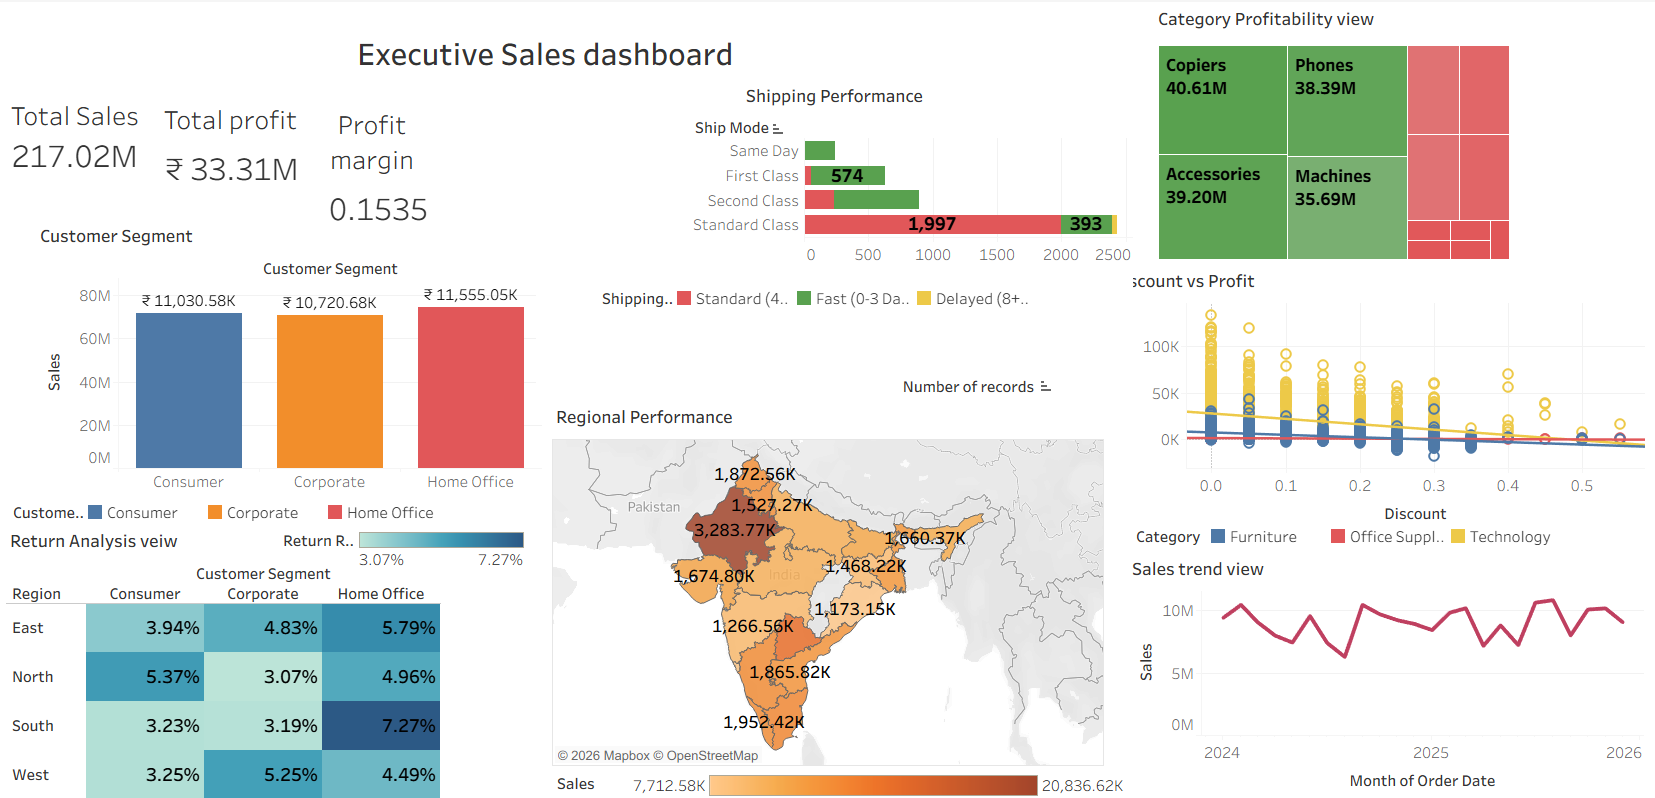

The dashboard page shown, as its layout file describes it:
{"tool":"tableau","page":{"name":"Executive Sales dashboard","canvas":[1000,1000],"units":"permille","ordinal":0},"visuals":[{"type":"worksheet","title":"Category Profitability view","mark":"Automatic","box":[697,0,302.4,327.1]},{"type":"title","box":[4.8,10,990.3,106.1]},{"type":"worksheet","title":"Shipping Performance","mark":"Automatic","rows":["ship_mode"],"cols":["Calculation_1255660497924103"],"box":[324.1,96.1,360.3,405.7]},{"type":"worksheet","title":"Total Sales","mark":"Automatic","box":[4.8,114.9,98.4,118.6]},{"type":"worksheet","title":"Total profit","mark":"Automatic","box":[97.2,119.9,104.4,116.1]},{"type":"worksheet","title":"Profit margin","mark":"Automatic","box":[188.9,126.1,94.8,161.1]},{"type":"worksheet","title":"Customer Segment","mark":"Automatic","rows":["sales"],"cols":["customer_segment"],"box":[22.3,270.9,305.4,342.1]},{"type":"worksheet","title":"Discount vs Profit","mark":"Automatic","rows":["profit"],"cols":["discount"],"box":[669.3,327.1,324.1,333.3]},{"type":"legend","title":"Shipping Performance","param":"[federated.0z0as7z01bxado13thge306664ue].[none:Calculation_1255660486029316:nk]","box":[363.9,357.1,306.6,26.2]},{"type":"worksheet","title":"Regional Performance","mark":"Automatic","box":[333.7,496.9,333.1,456.9]},{"type":"legend","title":"Customer Segment","param":"[federated.0z0as7z01bxado13thge306664ue].[none:customer_segment:nk]","box":[8.4,624.2,293.9,44.9]},{"type":"worksheet","title":"Return Analysis veiw","mark":"Square","rows":["region"],"cols":["customer_segment"],"box":[4.2,651.7,325.3,347.1]},{"type":"legend","title":"Discount vs Profit","param":"[federated.0z0as7z01bxado13thge306664ue].[none:category:nk]","box":[686.2,654.2,264.3,25]},{"type":"legend","title":"Return Analysis veiw","param":"[federated.0z0as7z01bxado13thge306664ue].[usr:Return Rate (copy)_125566050623898","box":[171.4,656.7,147.9,54.9]},{"type":"worksheet","title":"Sales trend view","mark":"Line","rows":["sales"],"cols":["order_date"],"box":[681.4,686.6,311.4,307.1]},{"type":"legend","title":"Regional Performance","param":"[federated.0z0as7z01bxado13thge306664ue].[sum:sales:qk]","box":[336.8,960.1,344.6,31.2]}]}

Visuals, with their boxes on the dashboard's canvas, which has no fixed pixel size, in thousandths of its width and height (x1, y1, x2, y2). These are canvas units, not pixel positions in the 1655x798 screenshot, which may show the page scaled, cropped or inside an application window:
"Category Profitability view" worksheet: x1=697 y1=0 x2=999 y2=327
title: x1=5 y1=10 x2=995 y2=116
"Shipping Performance" worksheet: x1=324 y1=96 x2=684 y2=502
"Total Sales" worksheet: x1=5 y1=115 x2=103 y2=234
"Total profit" worksheet: x1=97 y1=120 x2=202 y2=236
"Profit margin" worksheet: x1=189 y1=126 x2=284 y2=287
"Customer Segment" worksheet: x1=22 y1=271 x2=328 y2=613
"Discount vs Profit" worksheet: x1=669 y1=327 x2=993 y2=660
"Shipping Performance" legend: x1=364 y1=357 x2=670 y2=383
"Regional Performance" worksheet: x1=334 y1=497 x2=667 y2=954
"Customer Segment" legend: x1=8 y1=624 x2=302 y2=669
"Return Analysis veiw" worksheet (Square marks): x1=4 y1=652 x2=330 y2=999
"Discount vs Profit" legend: x1=686 y1=654 x2=950 y2=679
"Return Analysis veiw" legend: x1=171 y1=657 x2=319 y2=712
"Sales trend view" worksheet (Line marks): x1=681 y1=687 x2=993 y2=994
"Regional Performance" legend: x1=337 y1=960 x2=681 y2=991
